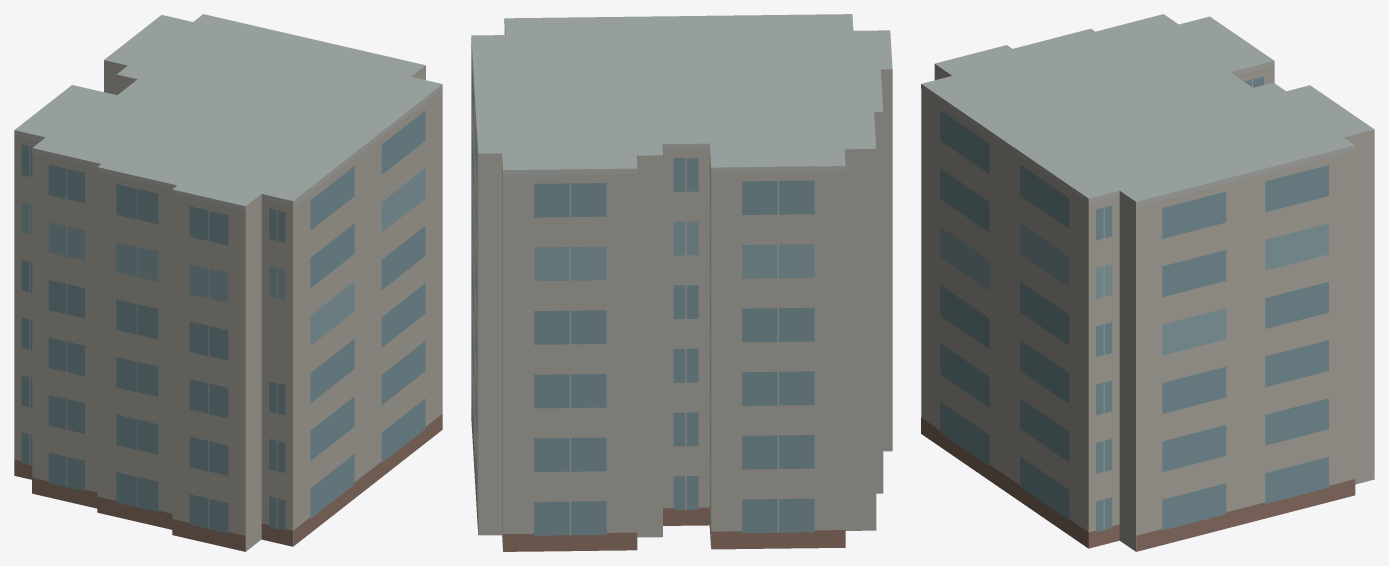
Rendered from survey-upis-32627239.glb.
3 views of the same model, side by side, from view 1: azimuth 30°, elevation 25°; view 2: azimuth 150°, elevation 25°; view 3: azimuth 270°, elevation 25° (orthographic). The views are drawn at different scales.
Parts seen in each view (by area): view 1: survey-upis-32627239.tmp; view 2: survey-upis-32627239.tmp; view 3: survey-upis-32627239.tmp.
Part boxes in pixels (box(x1,y1,x2,y2)): survey-upis-32627239.tmp: box(14, 14, 442, 551); survey-upis-32627239.tmp: box(471, 14, 892, 551); survey-upis-32627239.tmp: box(921, 14, 1374, 551).
Bounding box in the file's own units: 19.81 × 17.2 × 20.2.
